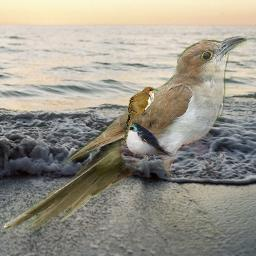Cuckoo: (1, 36, 248, 233), (123, 86, 158, 145)
Swallow: (122, 122, 174, 157)
